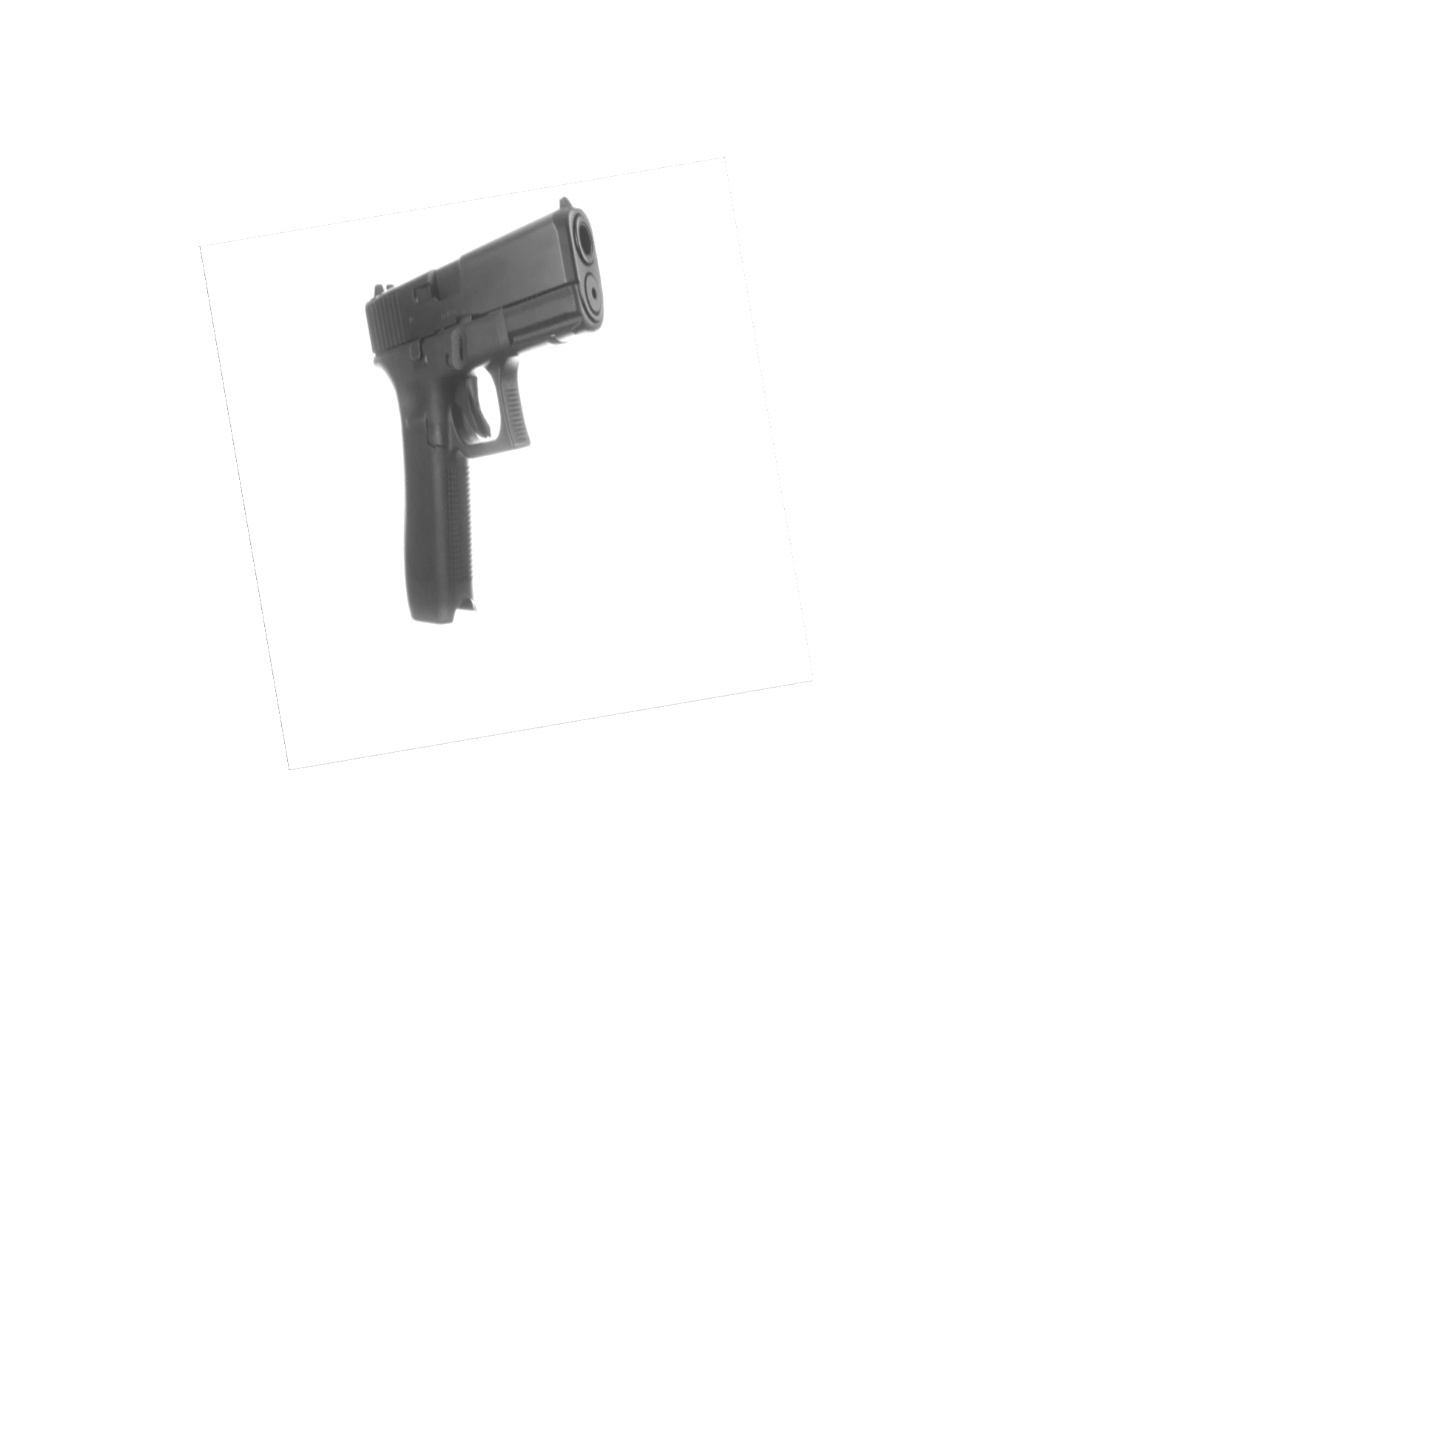gun: (358, 195, 614, 629)
